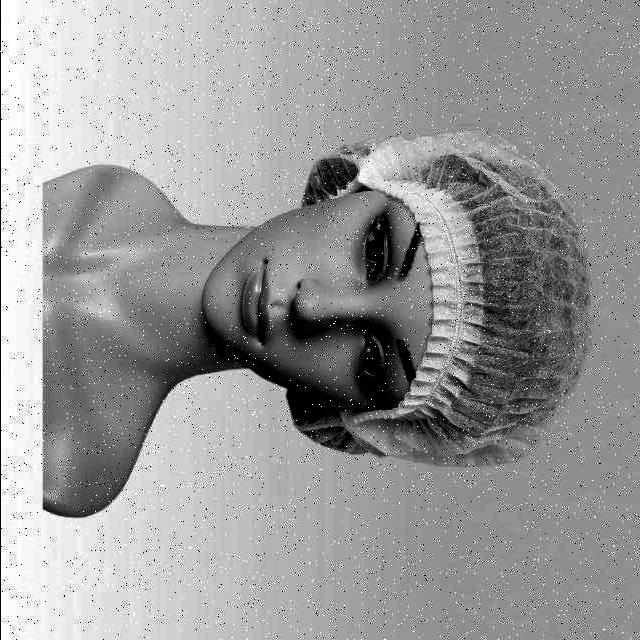no_hairnet: (222, 236, 356, 365)
